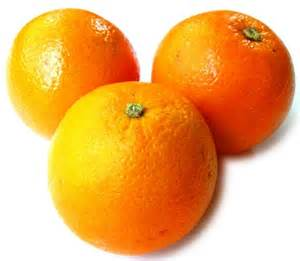orange: (43, 80, 222, 254), (148, 8, 297, 163), (6, 8, 141, 133)
